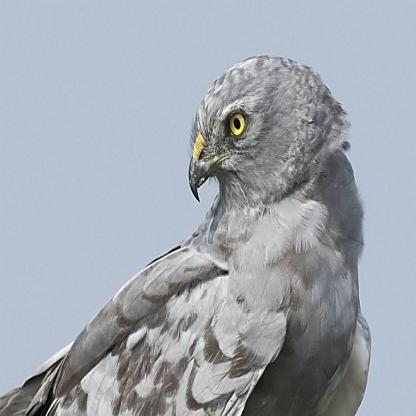Burung: (0, 55, 372, 415)
